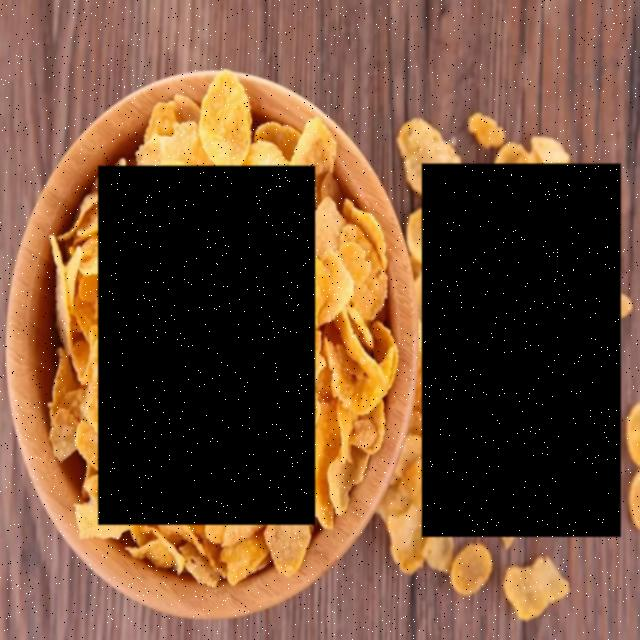Cornflakes: (98, 166, 315, 526), (422, 164, 622, 537)
